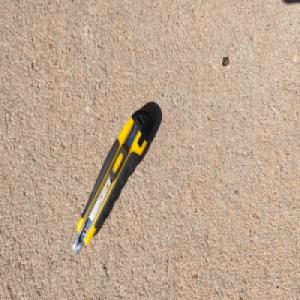Cutter: (71, 106, 155, 257)
